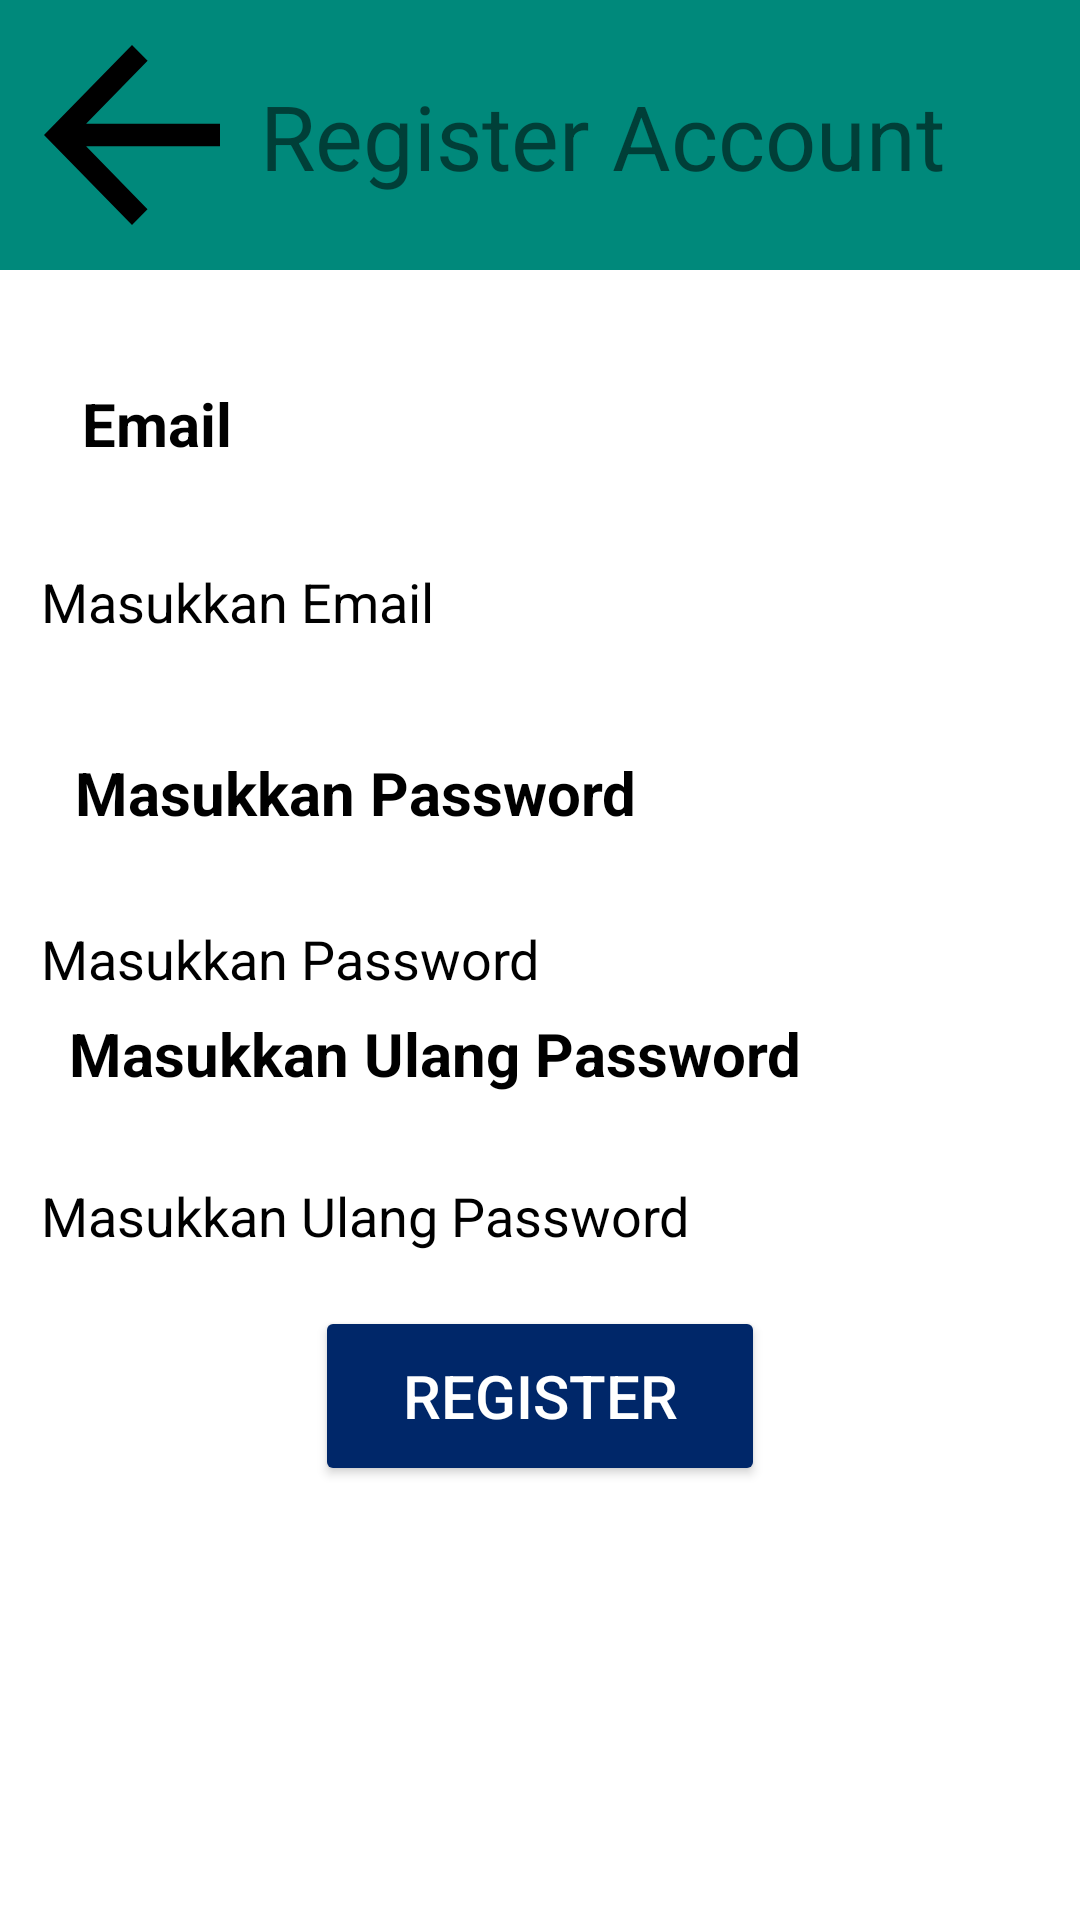

Locate icon controls on the screen. Image size 1080 × 1920, boxes as (x1, y1, x2, y2).
arrow back: (44, 45, 220, 225)
